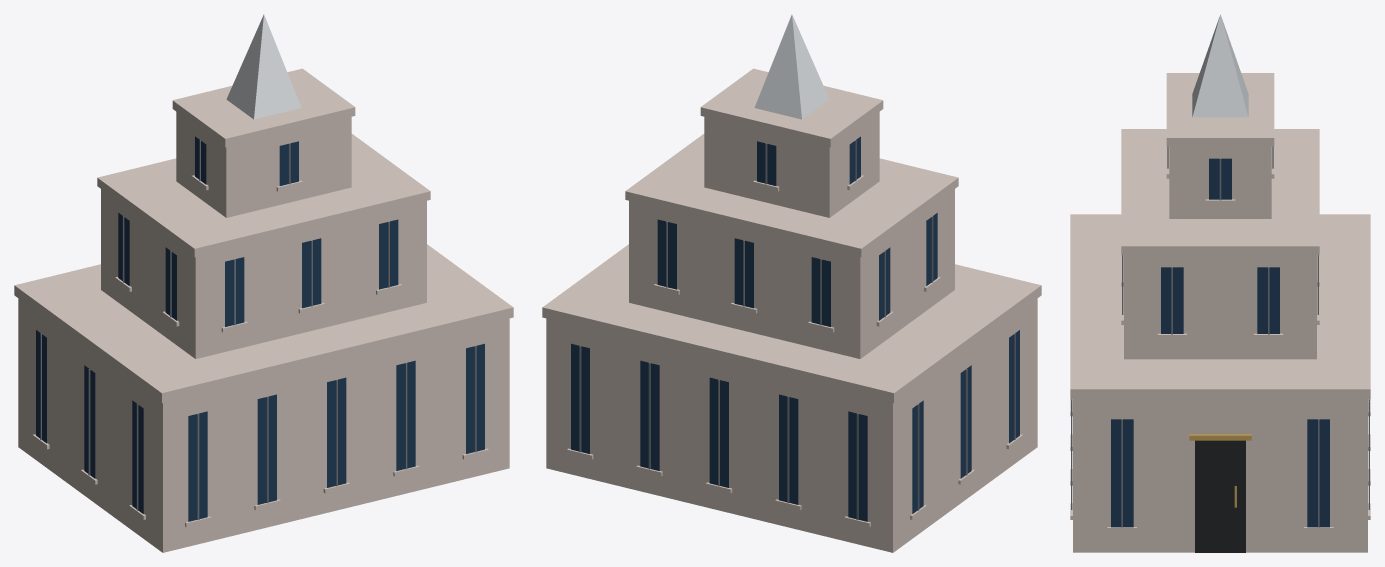
Rendered from roofprop_close.fbx.
The picture shows the model from 3 angles, left to right: view 1: azimuth 30°, elevation 25°; view 2: azimuth 150°, elevation 25°; view 3: azimuth 270°, elevation 25°; orthographic projection.
Visible parts, largest first — view 1: a2011/600/roofprop_close; view 2: a2011/600/roofprop_close; view 3: a2011/600/roofprop_close.
Boxes of the visible parts, box(x1,y1,x2,y2) form: a2011/600/roofprop_close: box(14, 14, 513, 552); a2011/600/roofprop_close: box(542, 14, 1041, 552); a2011/600/roofprop_close: box(1070, 14, 1370, 552).
Size of the model in its own units: 7.3 by 8.8 by 5.3.
